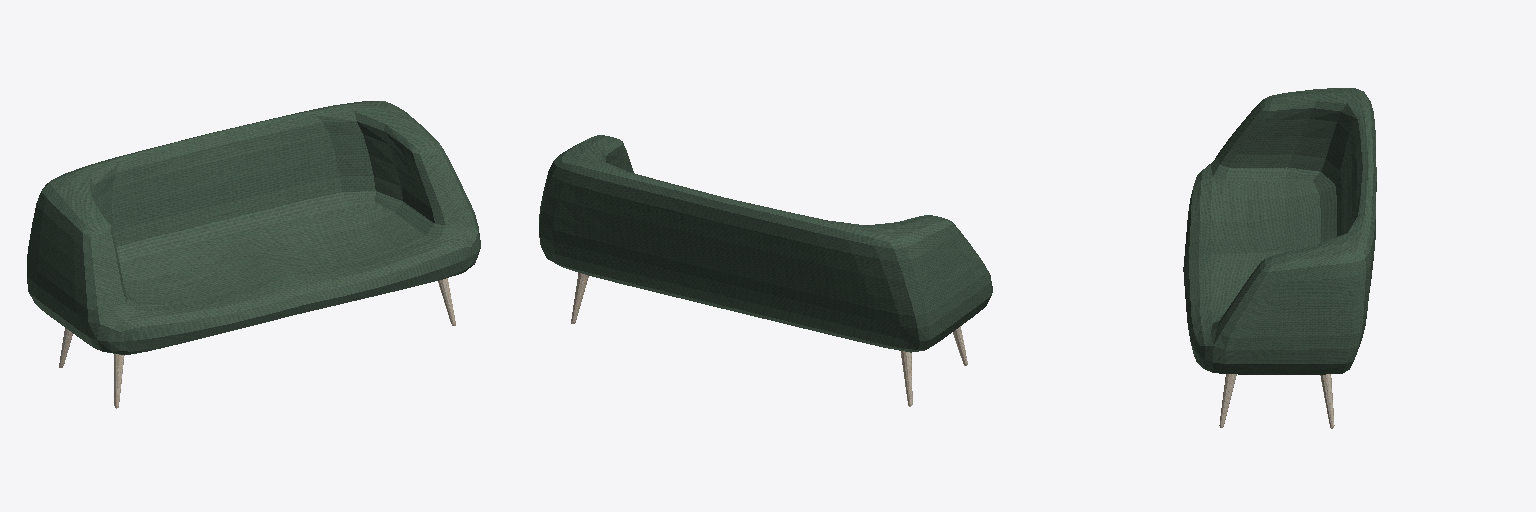
3 views of the same model, side by side, from view 1: azimuth 30°, elevation 25°; view 2: azimuth 150°, elevation 25°; view 3: azimuth 270°, elevation 25° (orthographic).
Parts seen in each view (by area): view 1: Cube.001; view 2: Cube.001; view 3: Cube.001.
Part boxes in pixels (bbox=[...]): Cube.001: bbox=[27, 101, 480, 408]; Cube.001: bbox=[539, 135, 992, 406]; Cube.001: bbox=[1183, 88, 1376, 428].
Size of the model in its own units: 6.04 by 2.66 by 2.58.
Materials: 1 (1 with a texture image).